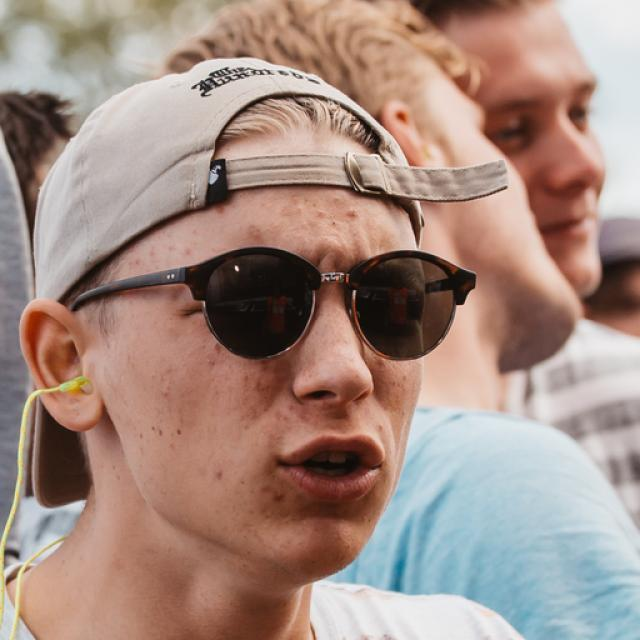disgust: (104, 140, 428, 580)
